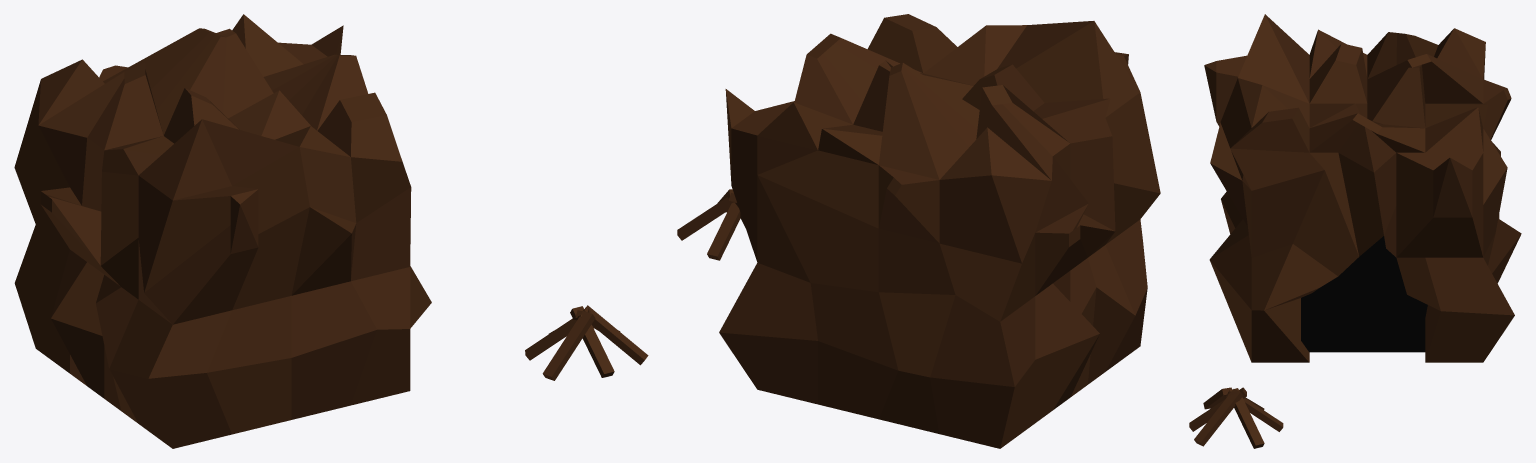
File: Hohle7.fbx
The picture shows the model from 3 angles, left to right: view 1: azimuth 30°, elevation 25°; view 2: azimuth 150°, elevation 25°; view 3: azimuth 270°, elevation 25°; orthographic projection. The views are drawn at different scales.
Parts seen in each view (by area): view 1: Höhle, Holz3, Holz6, Holz2, Holz4; view 2: Höhle, Holz1, Holz5; view 3: Höhle, Innen, Holz6, Holz5, Holz1, Holz2.
Boxes of the visible parts, x1,y1,x2,y2 form: Höhle: (14, 14, 431, 448); Holz3: (542, 311, 595, 380); Holz6: (583, 305, 648, 365); Holz2: (570, 306, 614, 377); Holz4: (525, 308, 590, 360); Höhle: (719, 14, 1160, 448); Holz1: (707, 202, 740, 260); Holz5: (677, 197, 733, 240); Höhle: (1204, 14, 1521, 362); Innen: (1301, 236, 1427, 352); Holz6: (1194, 389, 1243, 446); Holz5: (1229, 388, 1264, 448); Holz1: (1225, 391, 1283, 431); Holz2: (1189, 387, 1246, 431).
Bounding box in the file's own units: 414 × 254 × 287.
